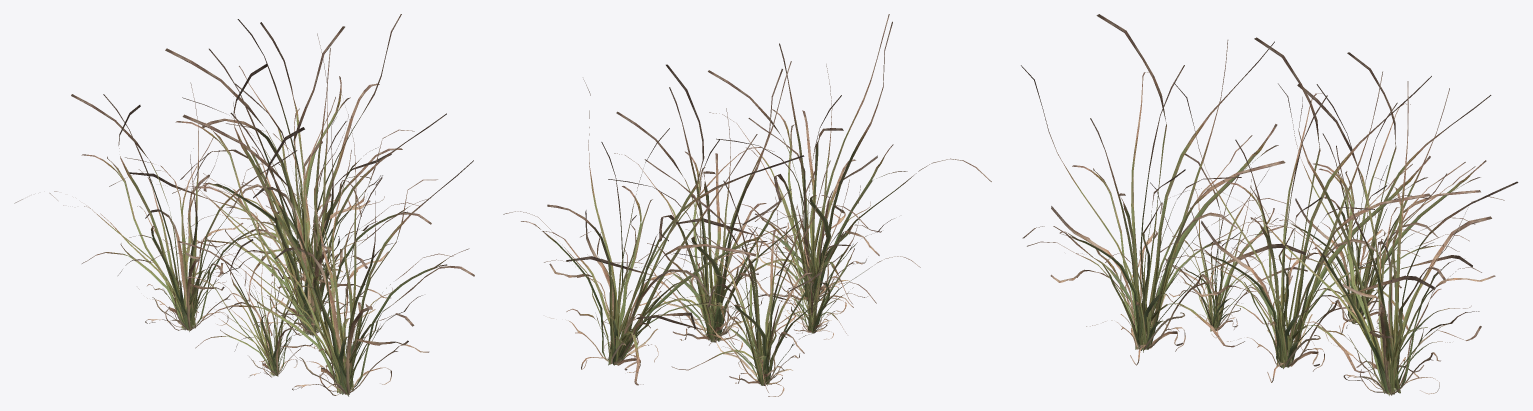
The model's file is Grass.fbx.
3 views of the same model, side by side, from view 1: azimuth 30°, elevation 25°; view 2: azimuth 150°, elevation 25°; view 3: azimuth 270°, elevation 25° (orthographic). The views are drawn at different scales.
Parts seen in each view (by area): view 1: grass_medium_02.240, grass_medium_02.378, grass_medium_02.325, grass_medium_02.024, grass_medium_02.023; view 2: grass_medium_02.024, grass_medium_02.240, grass_medium_02.378, grass_medium_02.325, grass_medium_02.023; view 3: grass_medium_02.240, grass_medium_02.024, grass_medium_02.378, grass_medium_02.325, grass_medium_02.023.
Boxes of the visible parts, left/top/right/bottom form: grass_medium_02.240: left=148, top=89, right=474, bottom=396; grass_medium_02.378: left=109, top=33, right=446, bottom=337; grass_medium_02.325: left=14, top=82, right=297, bottom=331; grass_medium_02.024: left=129, top=14, right=402, bottom=301; grass_medium_02.023: left=178, top=225, right=344, bottom=377; grass_medium_02.024: left=503, top=64, right=804, bottom=385; grass_medium_02.240: left=676, top=14, right=991, bottom=314; grass_medium_02.378: left=566, top=61, right=868, bottom=354; grass_medium_02.325: left=636, top=160, right=876, bottom=396; grass_medium_02.023: left=755, top=179, right=920, bottom=339; grass_medium_02.240: left=1021, top=14, right=1305, bottom=365; grass_medium_02.024: left=1170, top=81, right=1518, bottom=395; grass_medium_02.378: left=1159, top=37, right=1434, bottom=382; grass_medium_02.325: left=1253, top=52, right=1491, bottom=333; grass_medium_02.023: left=1150, top=153, right=1307, bottom=337.
Size of the model in its own units: 171 by 128 by 189.
Materials: 1 (1 with a texture image).
